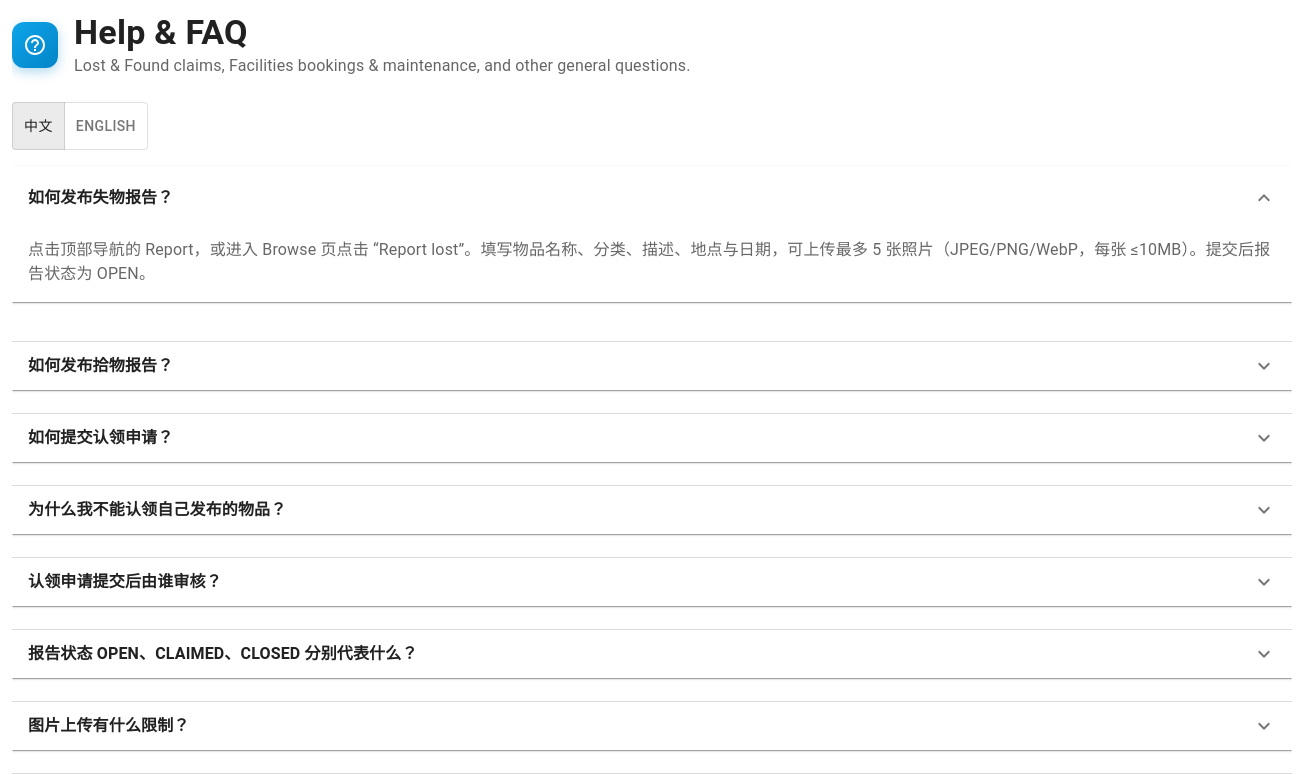
Test: LostFoundFaqPage › switches to English content
Click the button "English": [106, 126] box [64,102,148,150]
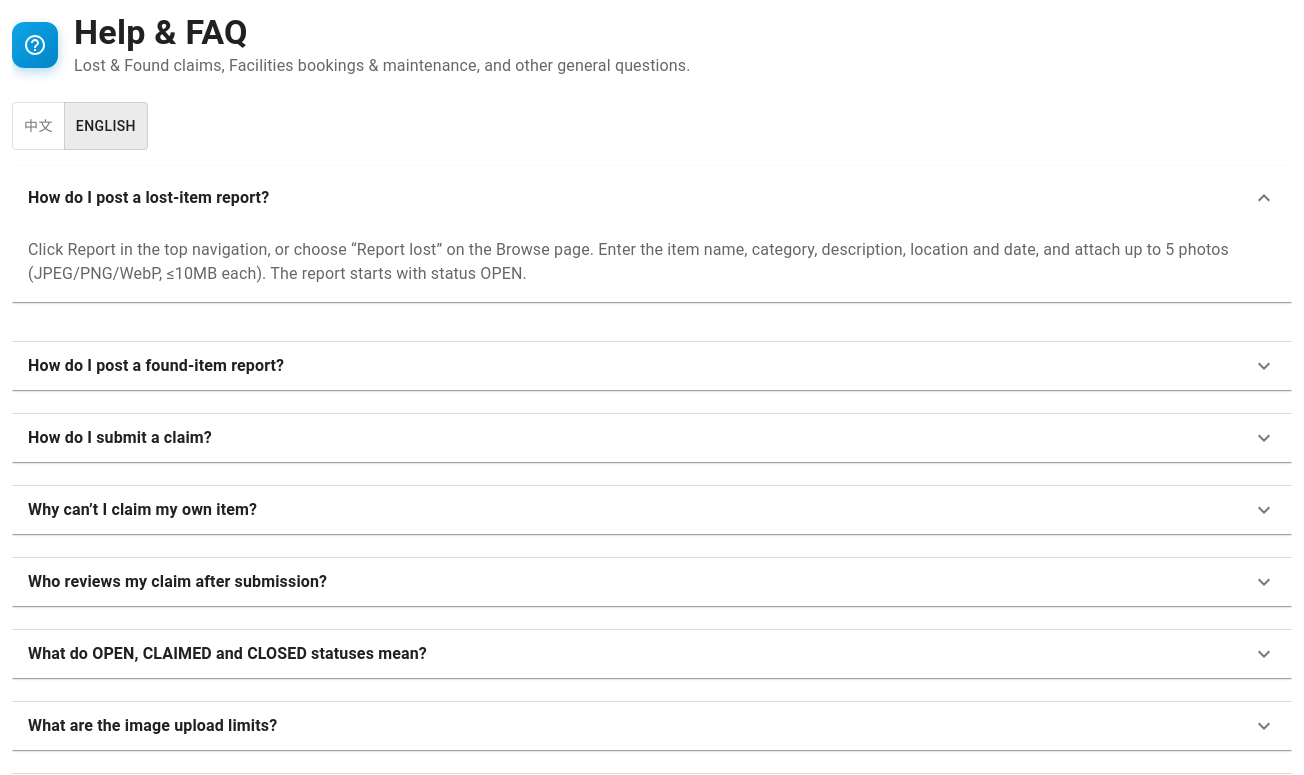
Result: the text "How do I post a lost-item report?" is shown at [28,186,269,210]
